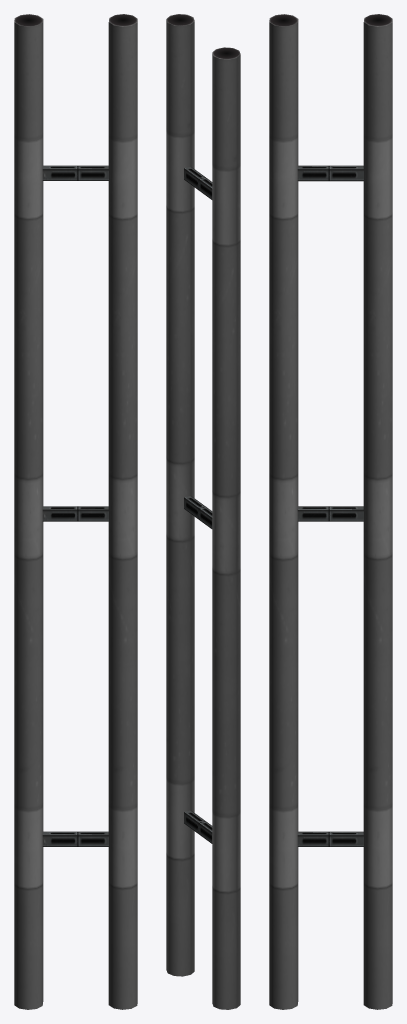
The model's file is Pipe_Vert_05.FBX.
The picture shows the model from 3 angles, left to right: view 1: azimuth 90°, elevation 25°; view 2: azimuth 210°, elevation 25°; view 3: azimuth 270°, elevation 25°; orthographic projection. The views are drawn at different scales.
Parts seen in each view (by area): view 1: Pipe_Vert_05; view 2: Pipe_Vert_05; view 3: Pipe_Vert_05.
Part boxes in pixels (bbox=[...]): Pipe_Vert_05: bbox=[14, 14, 137, 1009]; Pipe_Vert_05: bbox=[166, 14, 240, 1009]; Pipe_Vert_05: bbox=[269, 14, 392, 1009].
Bounding box in the file's own units: 3.9 × 140 × 15.98.
